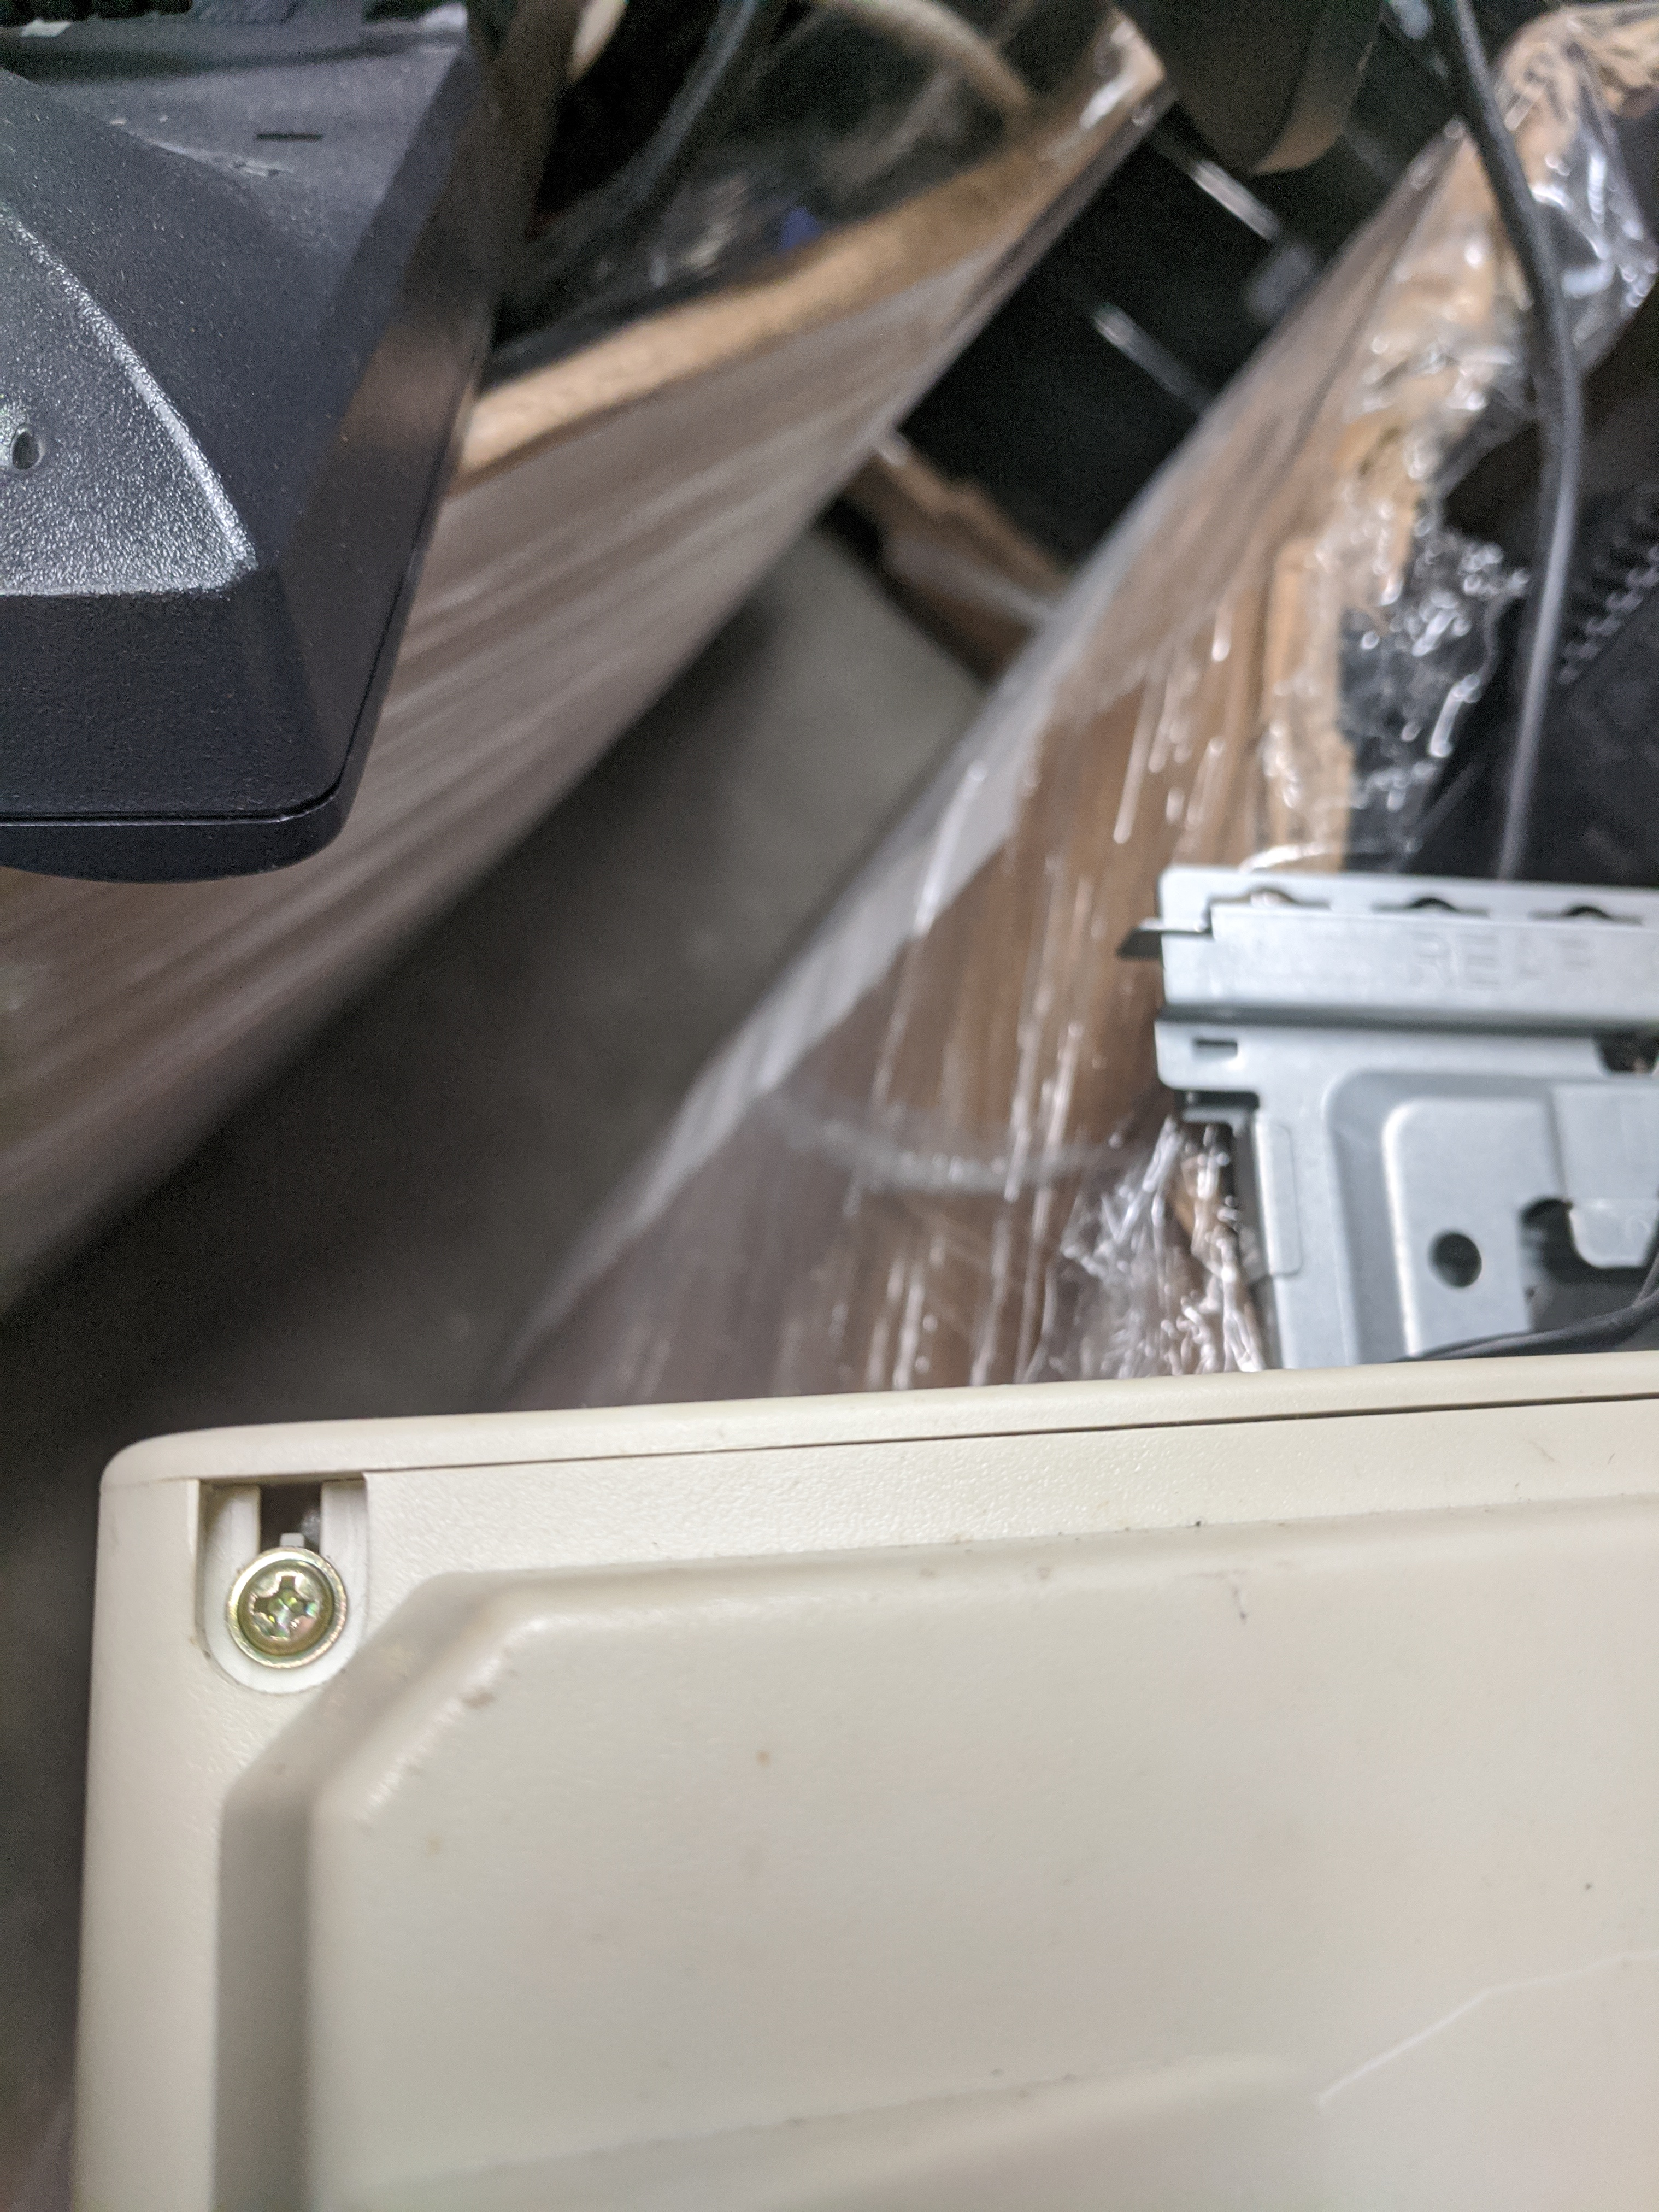cross_recessed_screw: (207, 1531, 355, 1672)
